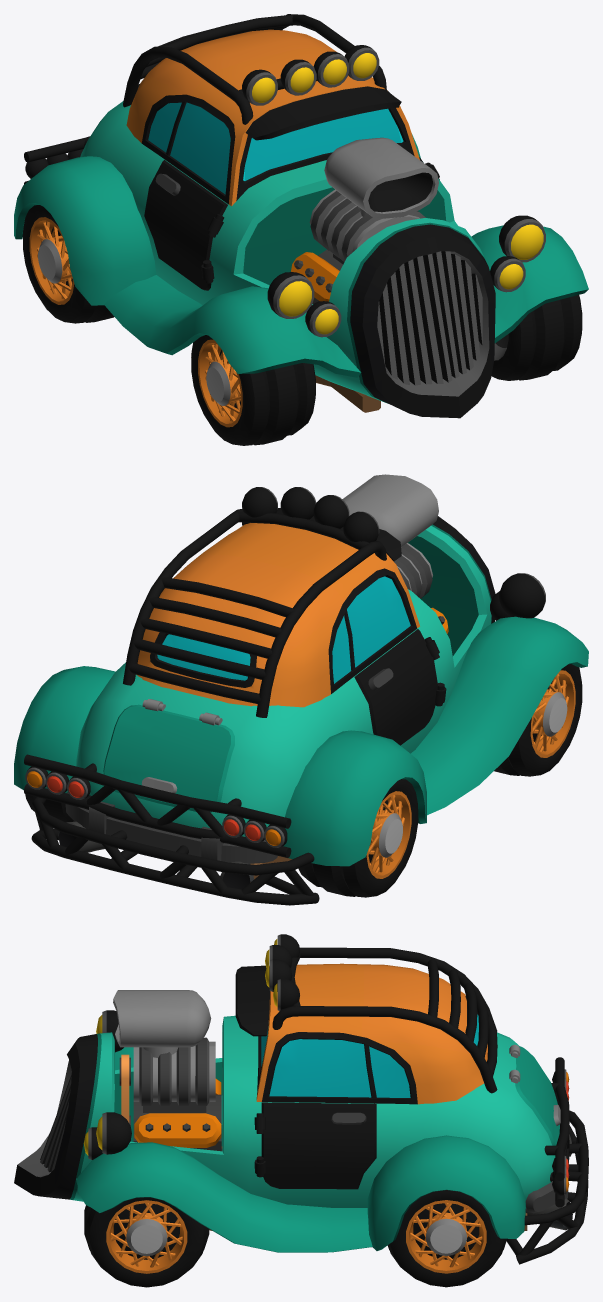
The model's file is VEH3-B.fbx.
3 renders of one model, top to bottom at view 1: azimuth 30°, elevation 25°; view 2: azimuth 150°, elevation 25°; view 3: azimuth 270°, elevation 25°, orthographic. The views are drawn at different scales.
Parts seen in each view (by area): view 1: VEH3_B, V3B_Wheel_FR, V3B_Wheel_FL, V3B_Wheel_BR; view 2: VEH3_B, V3B_Wheel_BR, V3B_Wheel_FR; view 3: VEH3_B, V3B_Wheel_FL, V3B_Wheel_BL.
Boxes of the visible parts, x1,y1,x2,y2 form: VEH3_B: (14, 14, 588, 418); V3B_Wheel_FR: (191, 335, 315, 445); V3B_Wheel_FL: (491, 295, 582, 380); V3B_Wheel_BR: (22, 205, 114, 323); VEH3_B: (14, 474, 588, 905); V3B_Wheel_BR: (298, 779, 418, 897); V3B_Wheel_FR: (494, 664, 582, 776); VEH3_B: (14, 934, 588, 1264); V3B_Wheel_FL: (84, 1197, 209, 1287); V3B_Wheel_BL: (387, 1190, 506, 1287).
Bounding box in the file's own units: 263 × 210 × 410.
1 material, 1 textured.
